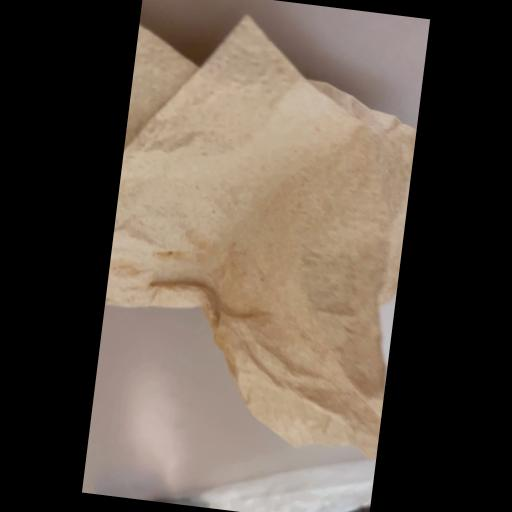napkin: (88, 0, 428, 472)
